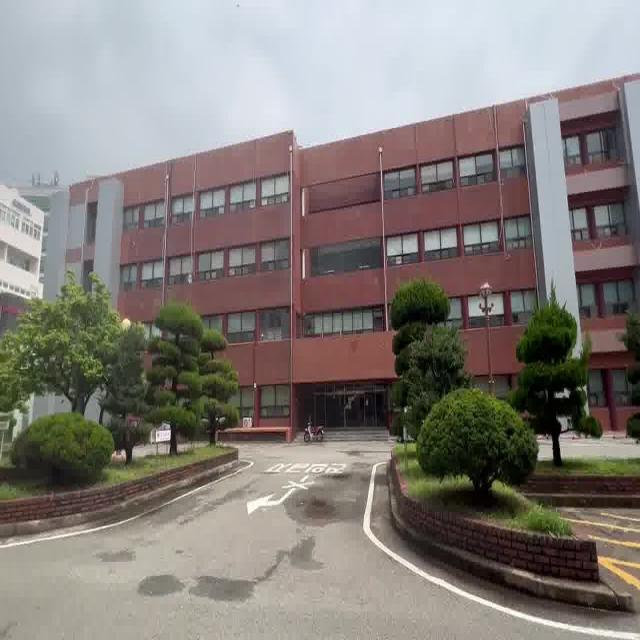building: (153, 143, 389, 320)
